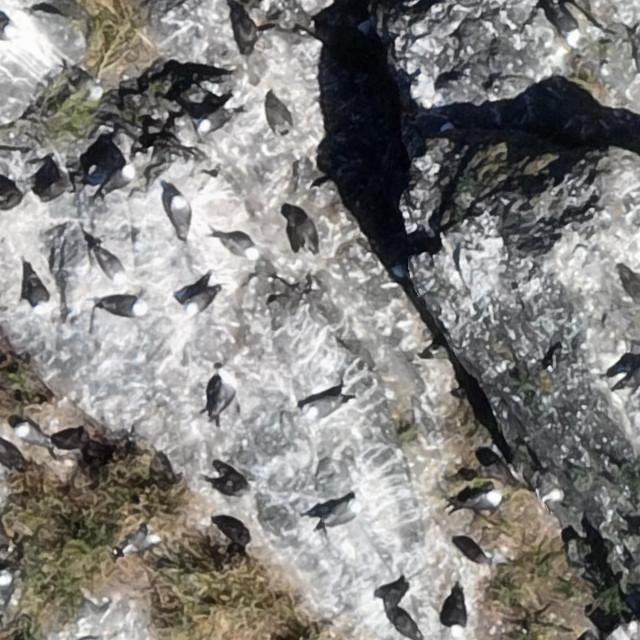umineko: (208, 368, 238, 420), (60, 62, 101, 99), (22, 270, 55, 314), (550, 6, 584, 45), (524, 468, 562, 498), (448, 589, 467, 640), (322, 500, 361, 524), (102, 297, 146, 317), (97, 252, 125, 280), (303, 397, 339, 417), (122, 530, 153, 553), (223, 235, 255, 257), (186, 291, 214, 314), (106, 166, 134, 189), (170, 195, 187, 231), (468, 492, 499, 511), (199, 112, 227, 132), (16, 425, 44, 445)
